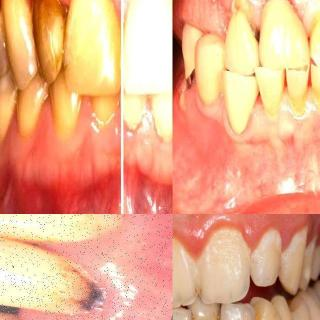Gum Swelling: (39, 235, 172, 320), (0, 96, 121, 171), (195, 91, 320, 145), (123, 97, 172, 186), (172, 214, 260, 258), (54, 214, 172, 239)
calculus: (257, 0, 290, 18)
cavities: (43, 252, 118, 320), (7, 309, 62, 320)
maligned: (201, 225, 251, 301), (172, 228, 194, 310), (192, 292, 219, 320), (220, 300, 248, 320), (251, 303, 280, 320)
plaque: (204, 233, 250, 281), (258, 228, 284, 266), (172, 232, 192, 278), (282, 230, 310, 262)
stains: (67, 0, 121, 92), (25, 0, 67, 82), (1, 0, 35, 72), (17, 80, 48, 134), (50, 73, 76, 136), (89, 84, 122, 126), (0, 73, 17, 142), (0, 0, 7, 75), (193, 307, 218, 320), (252, 310, 280, 320)
